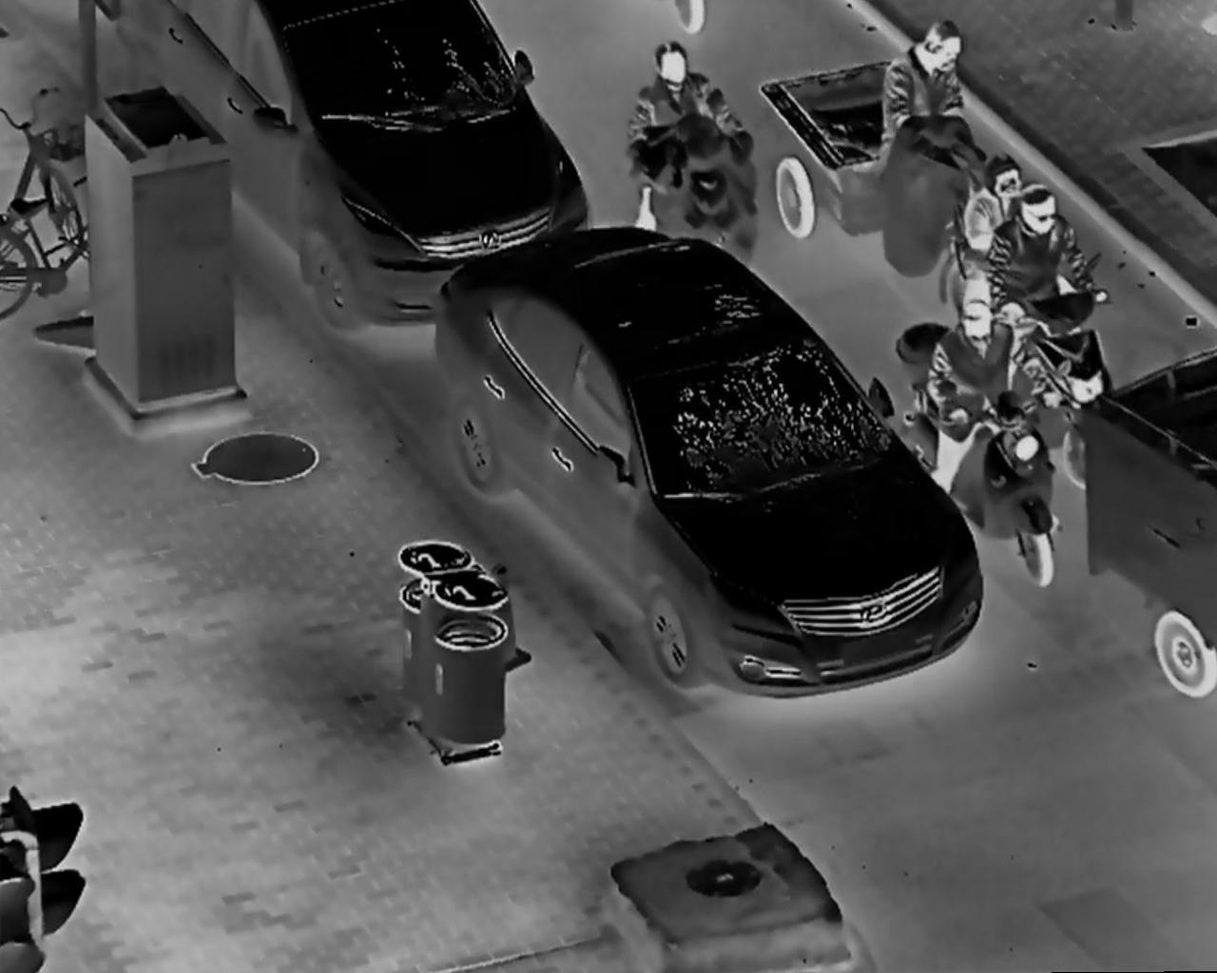person: (926, 299, 1042, 524), (626, 40, 752, 246), (985, 185, 1103, 391), (879, 19, 988, 188), (953, 154, 1030, 375)
